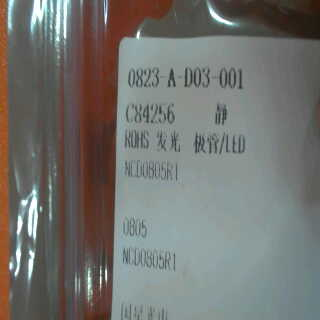LED: (156, 125, 256, 164)
